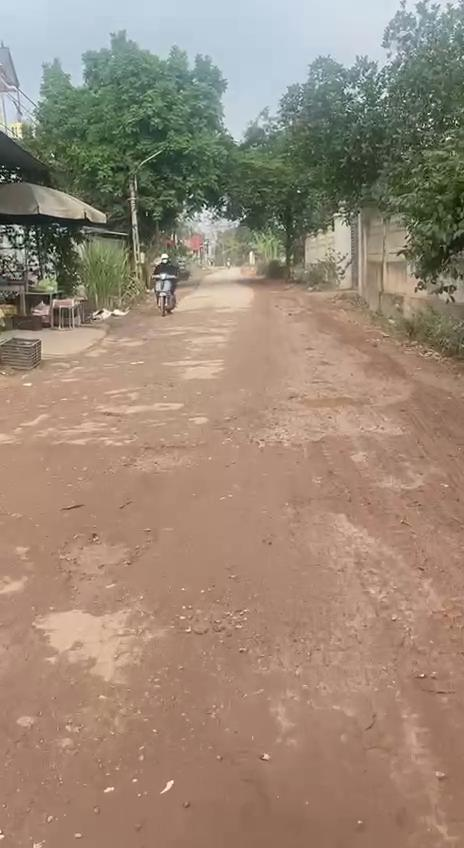pothole: (58, 528, 138, 586), (129, 442, 197, 476), (288, 387, 377, 412)
